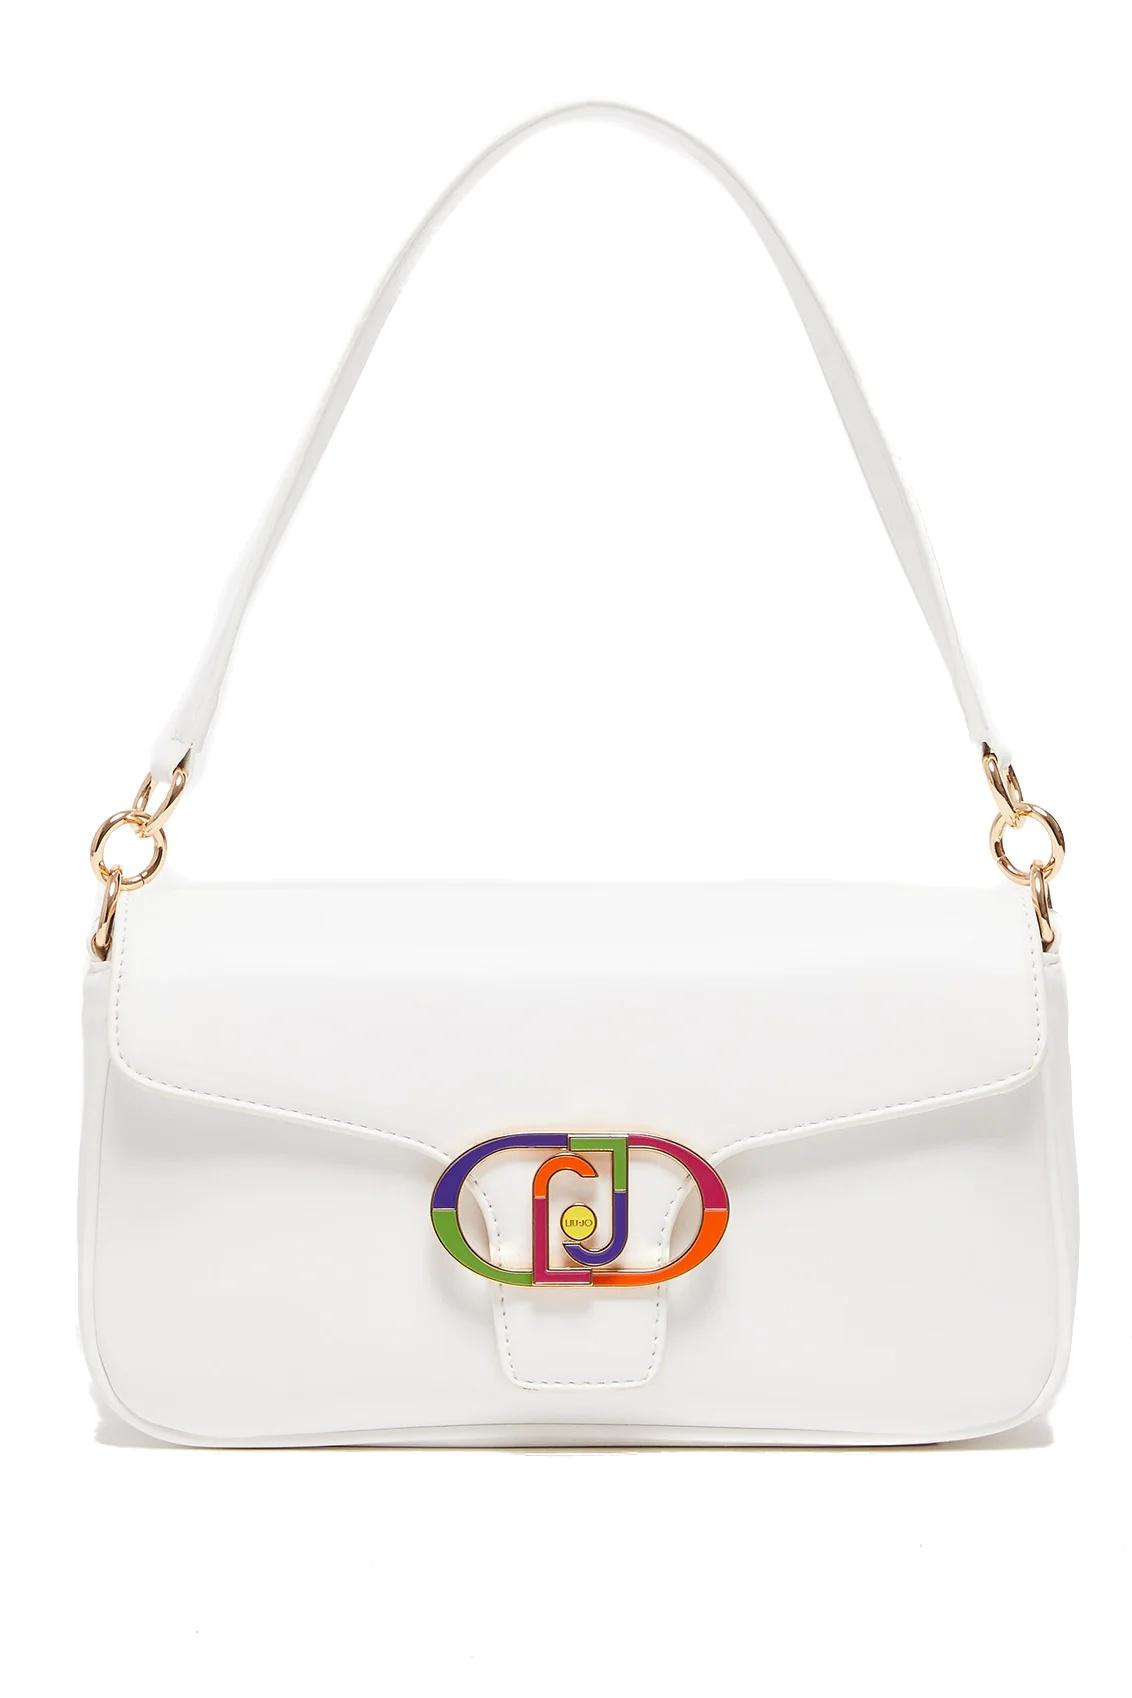LIU-JO: (532, 1133, 629, 1286)
